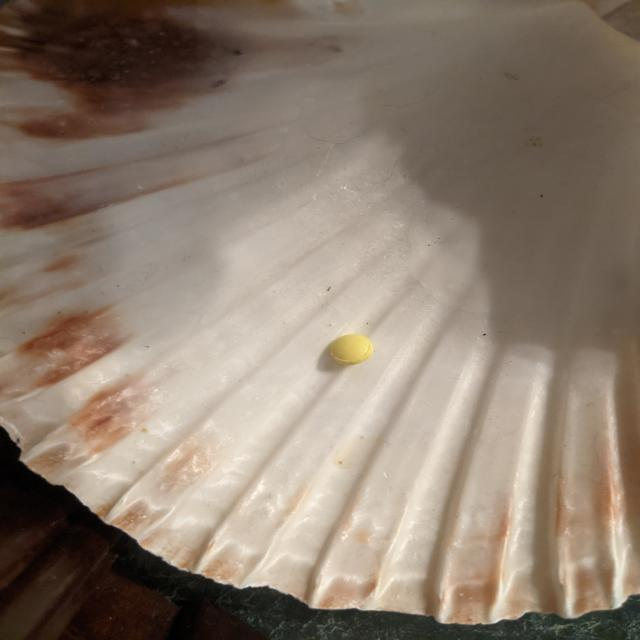non-organic waste: (329, 333, 374, 366)
